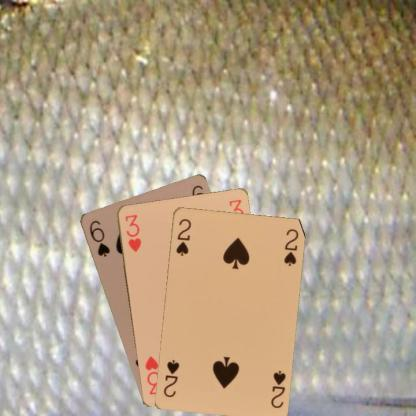2s: (268, 368, 287, 409), (174, 216, 192, 257)
3h: (122, 212, 142, 253)
6s: (87, 218, 111, 258)
